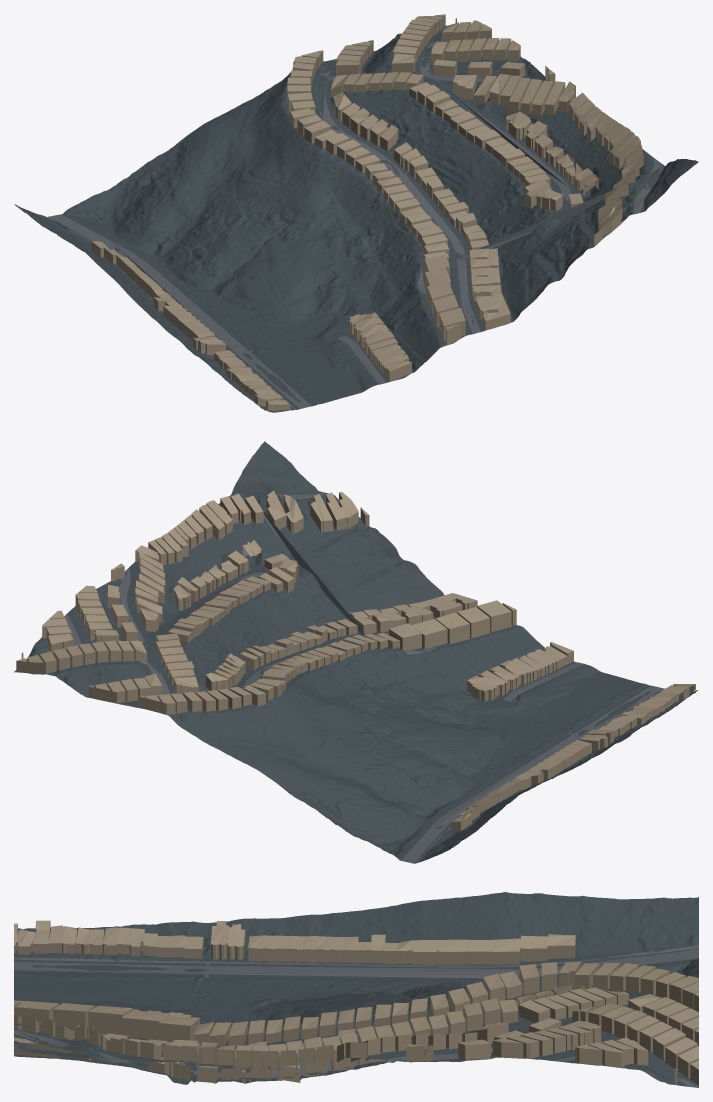
File: epsg26910-1425-10882.lod0.glb
The picture shows the model from 3 angles, top to bottom: view 1: azimuth 30°, elevation 25°; view 2: azimuth 150°, elevation 25°; view 3: azimuth 270°, elevation 25°; orthographic projection. The views are drawn at different scales.
Visible parts, largest first — view 1: epsg26910-1425-10882-lod0; view 2: epsg26910-1425-10882-lod0; view 3: epsg26910-1425-10882-lod0.
Part boxes in pixels (x1,y1,x2,y2): epsg26910-1425-10882-lod0: [14, 14, 698, 412]; epsg26910-1425-10882-lod0: [14, 441, 697, 863]; epsg26910-1425-10882-lod0: [14, 892, 698, 1087].
Bounding box in the file's own units: 384 × 127 × 384.
